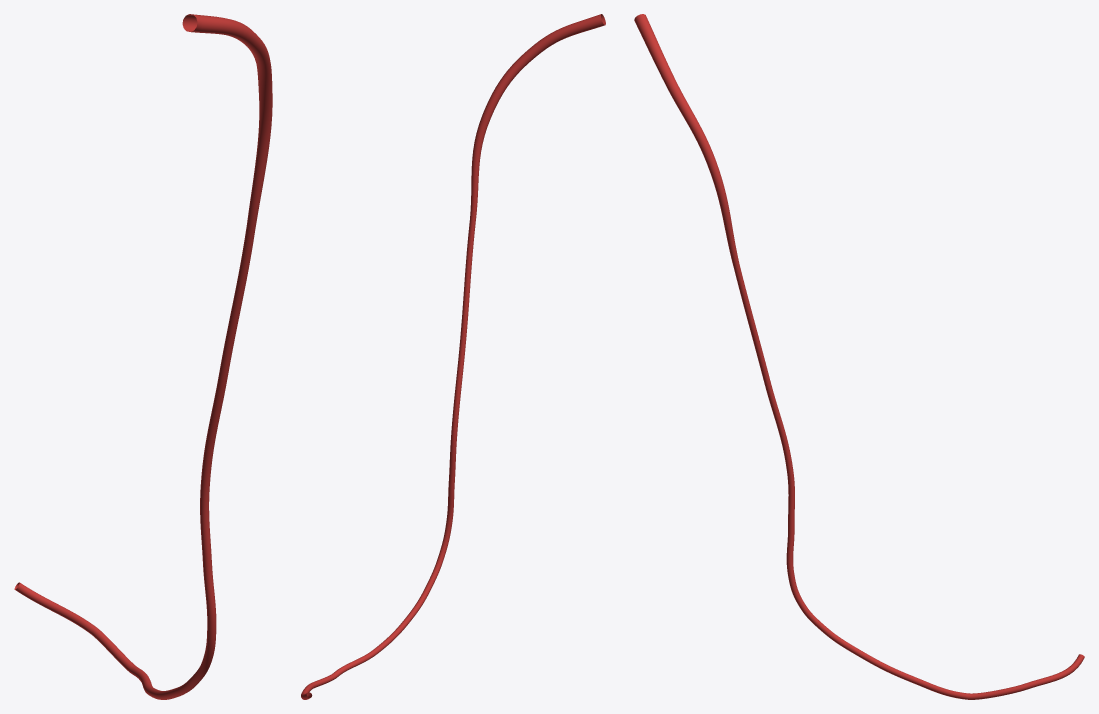
The picture shows the model from 3 angles, left to right: view 1: azimuth 30°, elevation 25°; view 2: azimuth 150°, elevation 25°; view 3: azimuth 270°, elevation 25°; orthographic projection. The views are drawn at different scales.
Visible parts, largest first — view 1: 右侧蝶腭动脉鼻中隔后支; view 2: 右侧蝶腭动脉鼻中隔后支; view 3: 右侧蝶腭动脉鼻中隔后支.
Part boxes in pixels (box(x1,y1,x2,y2)): 右侧蝶腭动脉鼻中隔后支: box(14, 14, 272, 699); 右侧蝶腭动脉鼻中隔后支: box(301, 14, 605, 699); 右侧蝶腭动脉鼻中隔后支: box(634, 14, 1084, 699).
Size of the model in its own units: 0.0135 by 0.0619 by 0.0404.
